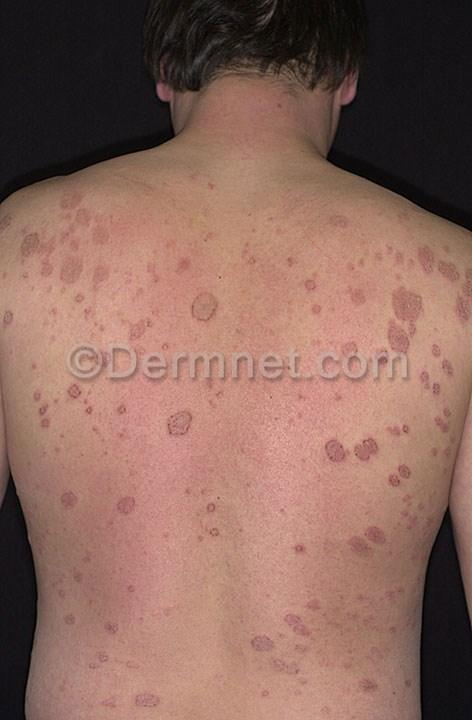Eczema: (165, 212, 351, 335), (198, 592, 382, 700), (0, 203, 155, 325), (353, 235, 472, 350), (46, 557, 193, 648), (256, 503, 418, 573), (309, 412, 440, 488), (78, 652, 191, 720), (22, 379, 112, 457), (59, 479, 177, 532), (159, 402, 261, 456)
